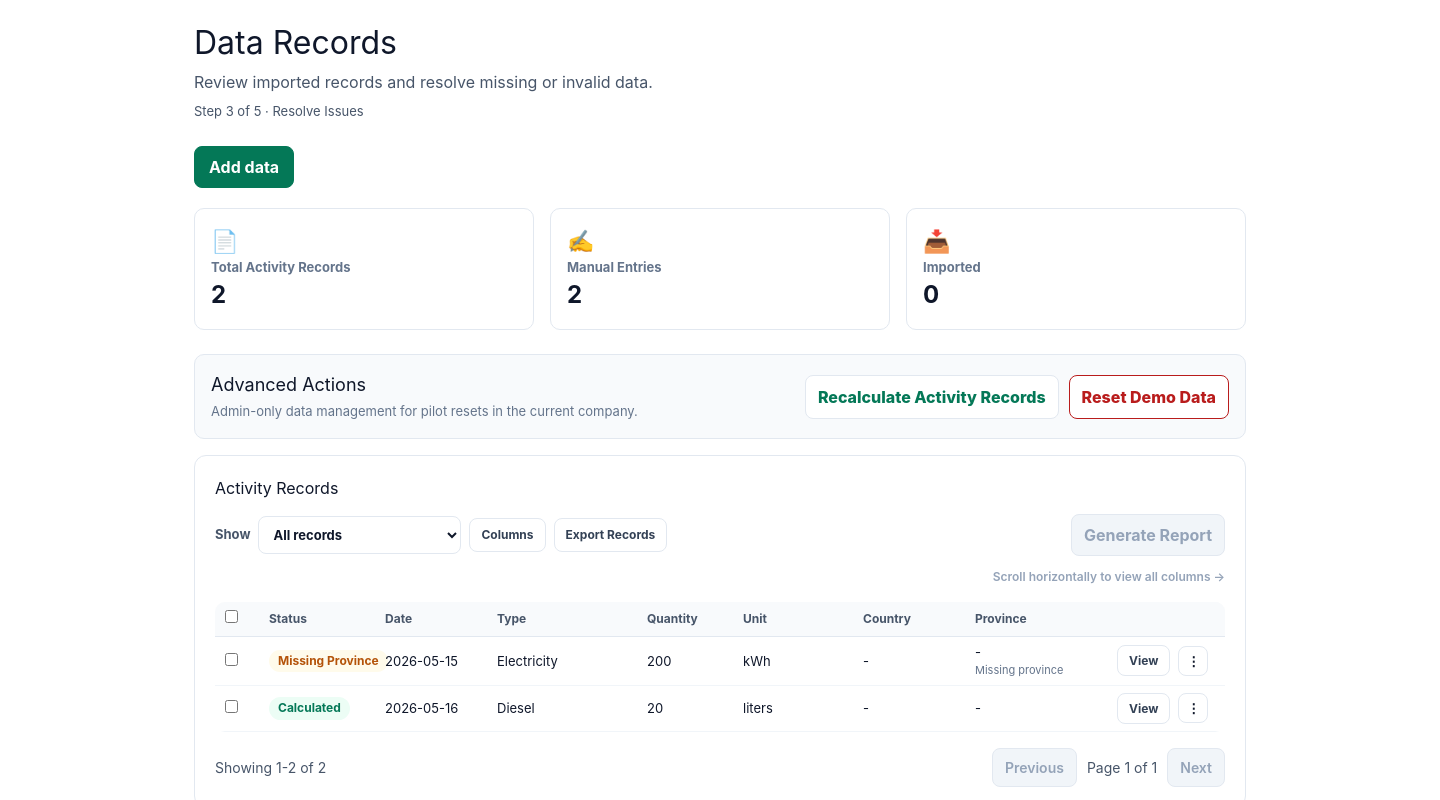
Test: ActivityDataPage delete flows › does not send a site or facility update when all selected records already match
This screenshot has width=1440, height=800.
expect the row with test id "activity-row-facility-same-1" is shown: met, box [215,636,1225,685]
Click the 1st checkbox at (232, 616), box [225,610,238,623]
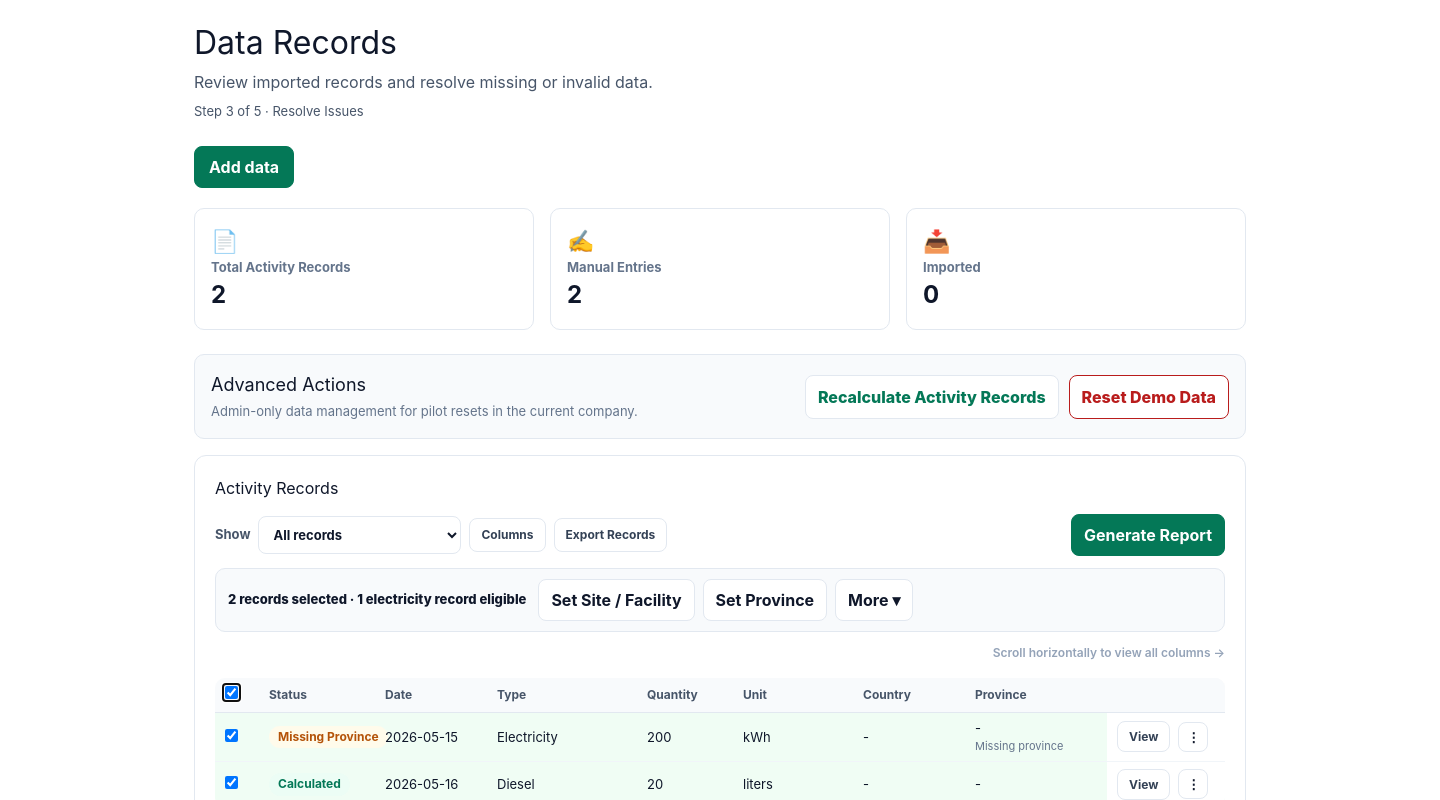
Click the button "Set Site / Facility" at (616, 600), box [538,579,695,621]
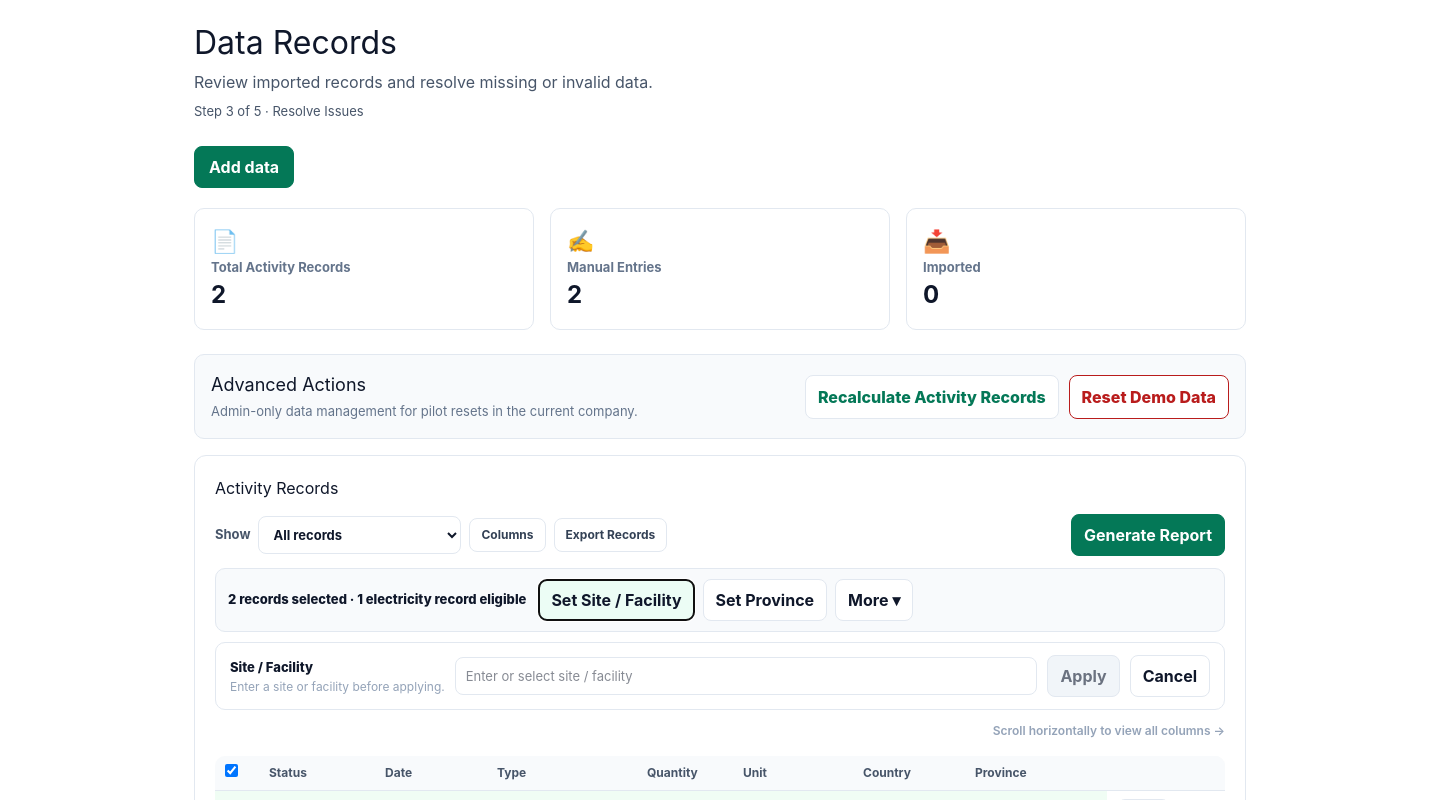
Type "Calgary Office" into the field named "Site / Facility to apply to selected records" at (746, 676), box [455,657,1037,695]
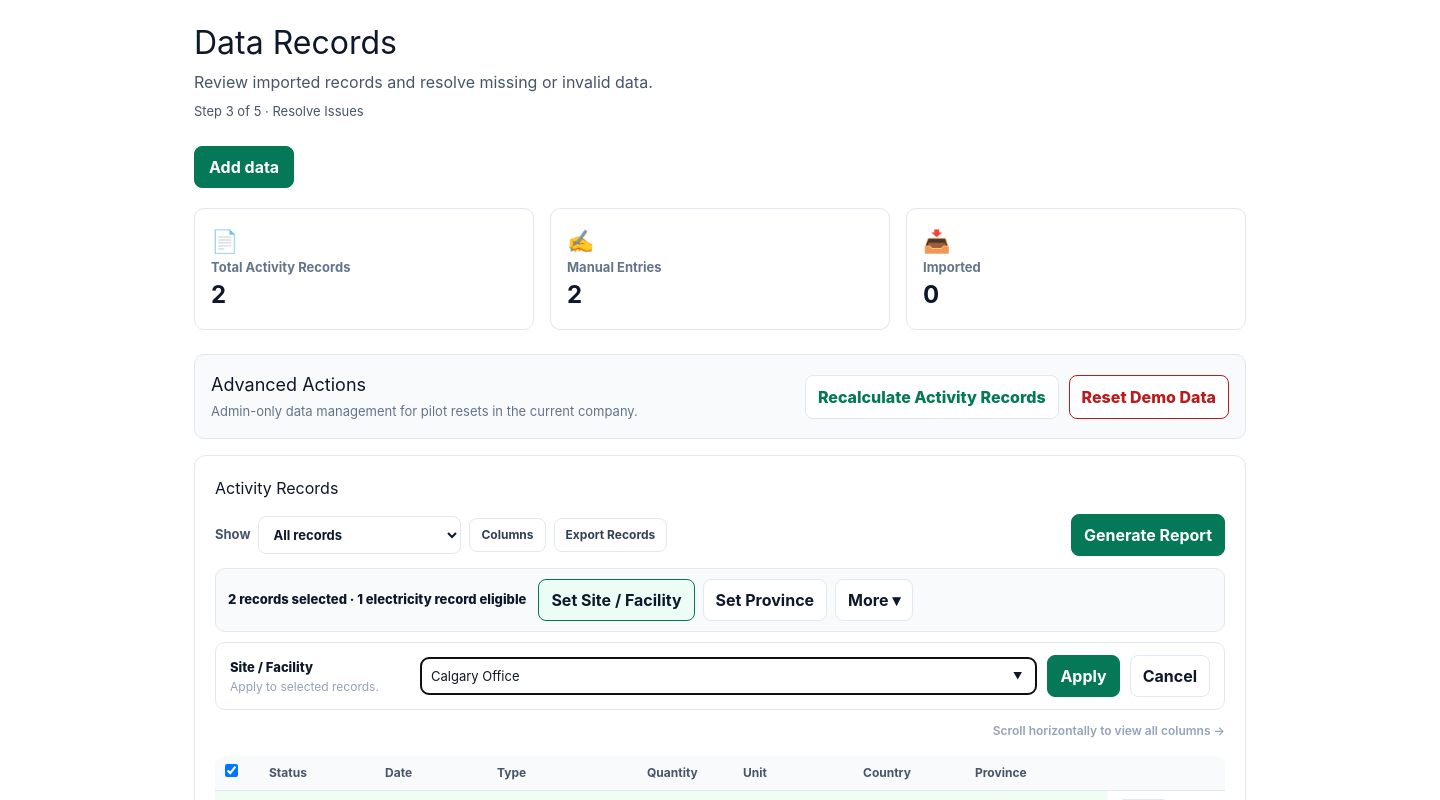
Click the button "Apply" at (1084, 676), box [1047,655,1120,697]
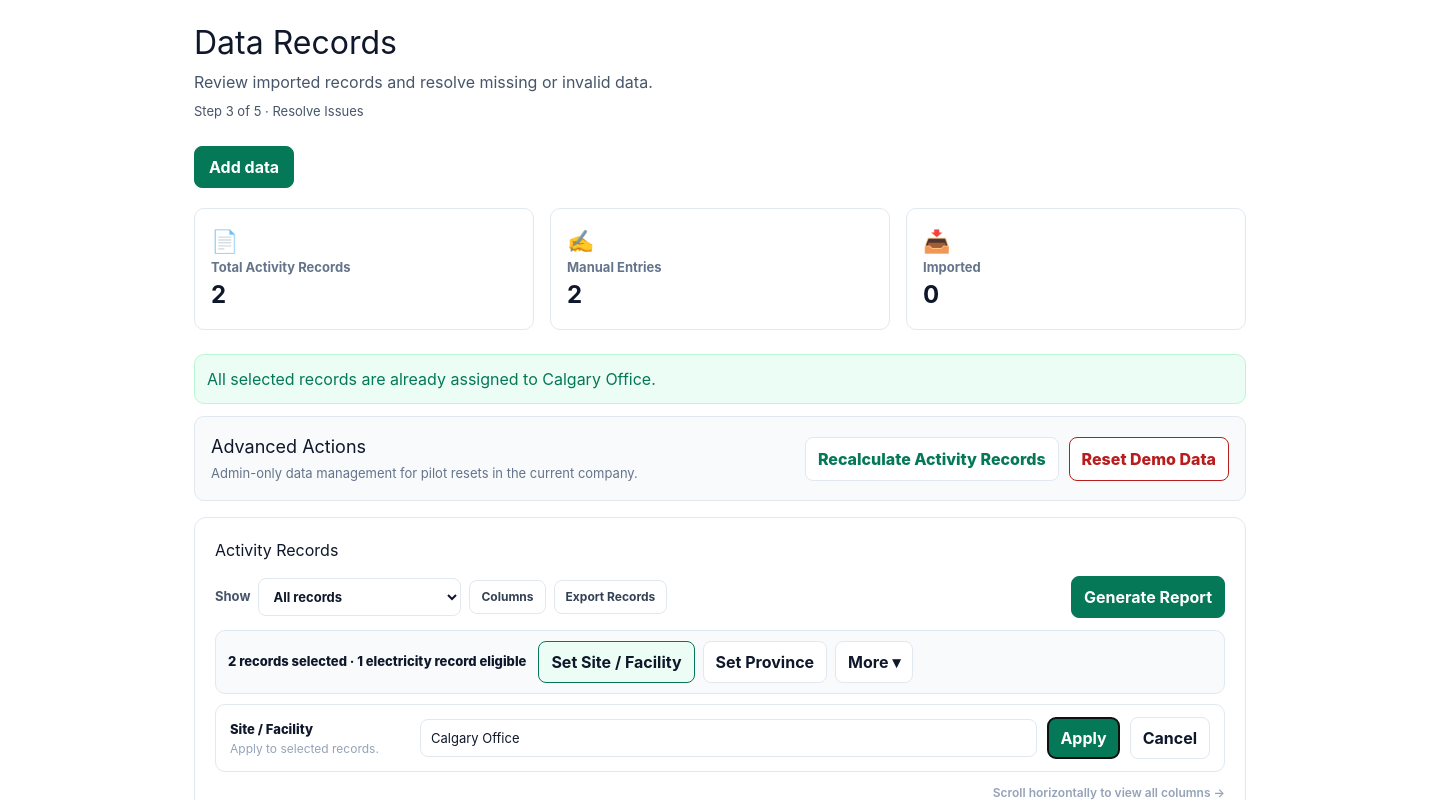
expect the text "All selected records are already assigned to Calgary Office." is shown: met, box [194,354,1246,404]
